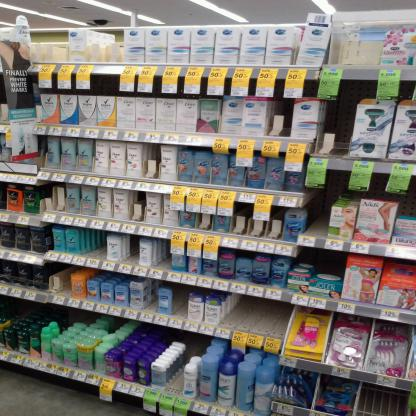Void: (232, 296, 285, 339), (234, 205, 280, 237), (327, 103, 347, 151), (364, 390, 402, 415), (311, 198, 328, 237), (314, 248, 339, 273), (270, 100, 286, 136), (342, 82, 373, 99), (95, 74, 118, 94), (172, 286, 186, 316), (86, 234, 100, 255), (136, 193, 144, 222), (55, 273, 67, 291), (169, 374, 179, 391), (149, 288, 154, 308), (131, 241, 136, 260)
